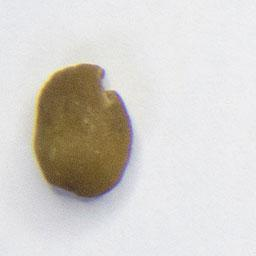defect: (31, 59, 137, 201)
